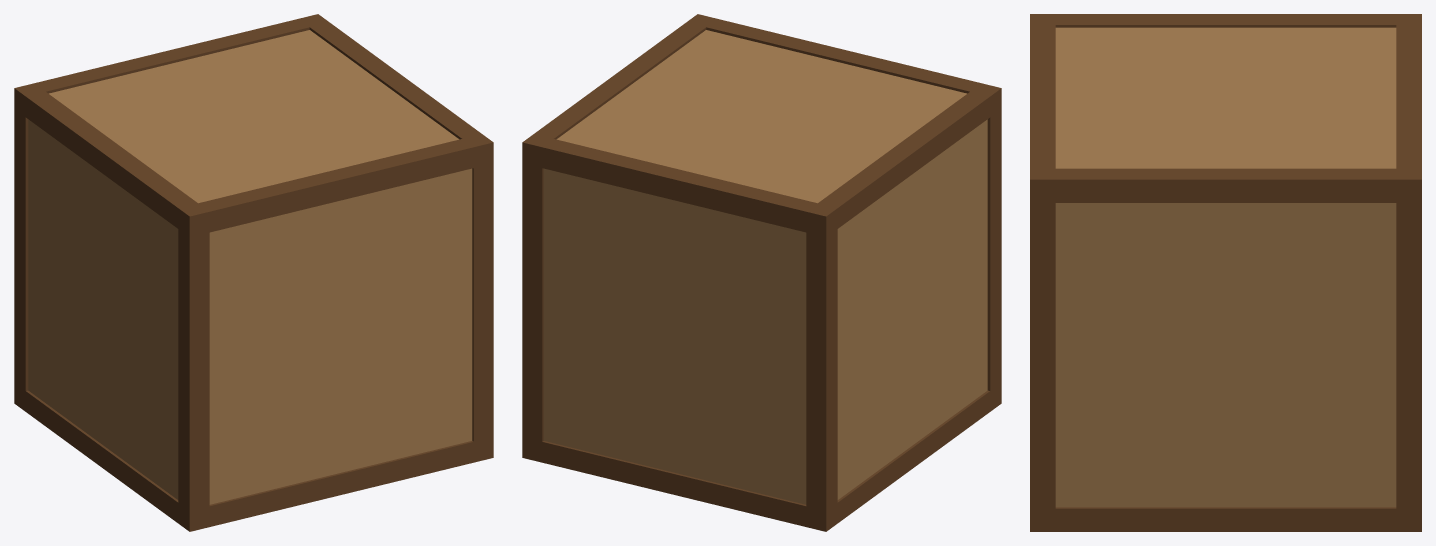
The model's file is crate.glb.
3 renders of one model, left to right at view 1: azimuth 30°, elevation 25°; view 2: azimuth 150°, elevation 25°; view 3: azimuth 270°, elevation 25°, orthographic. The views are drawn at different scales.
Visible parts, largest first — view 1: crate; view 2: crate; view 3: crate.
Boxes of the visible parts, x1,y1,x2,y2 form: crate: (14, 14, 493, 531); crate: (522, 14, 1001, 531); crate: (1030, 14, 1421, 531).
Size of the model in its own units: 1.22 by 1.21 by 1.22.
